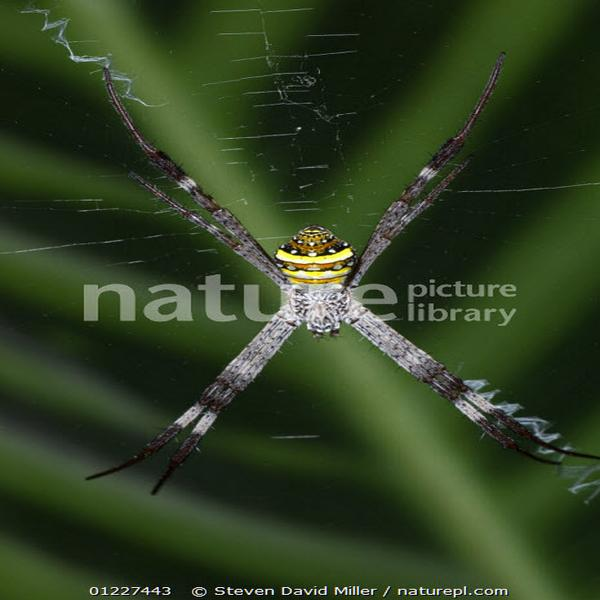St Andrew's Cross Spider: (95, 58, 570, 476)
